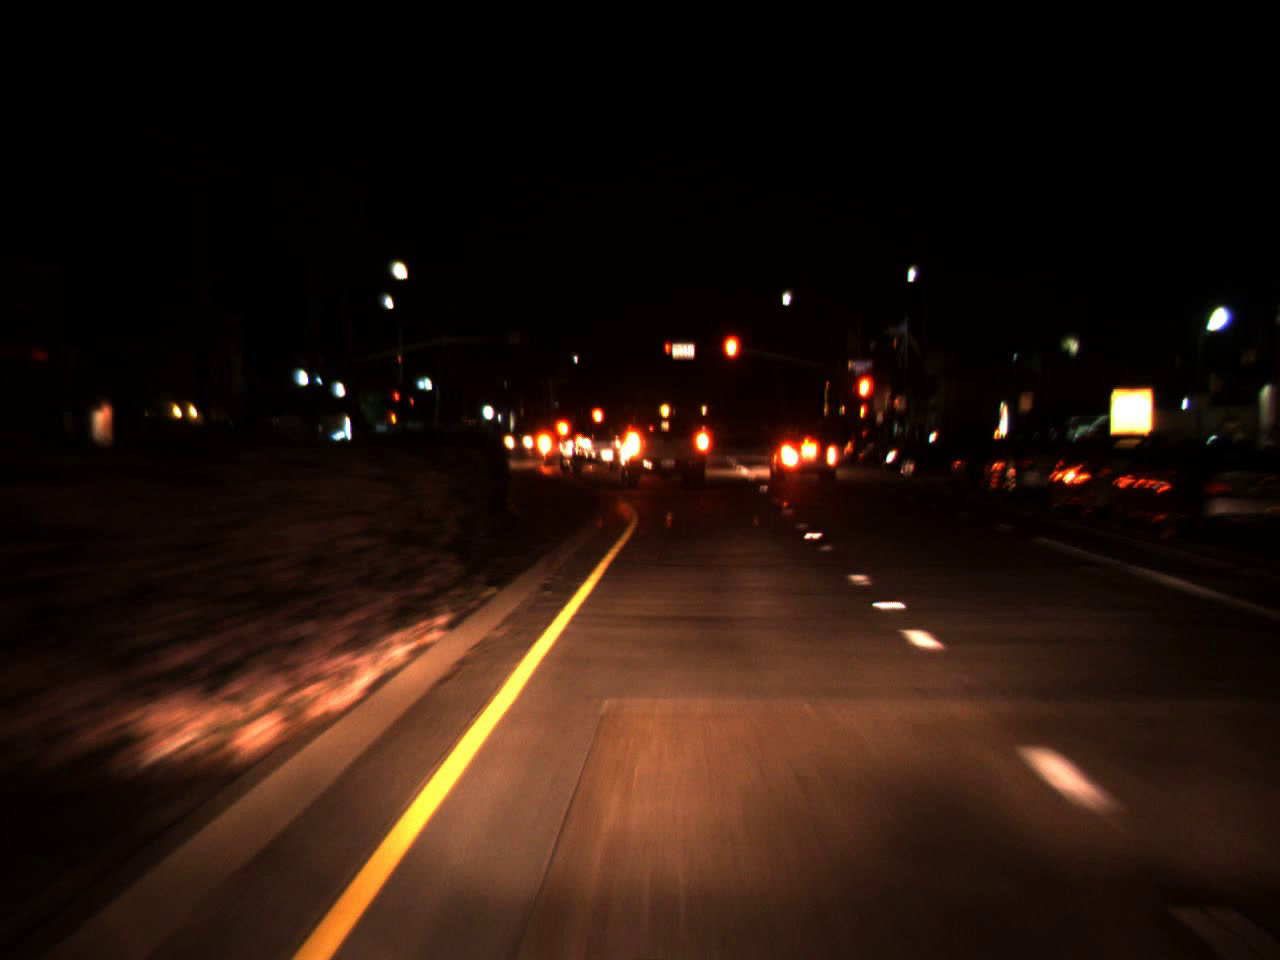stop: (720, 330, 742, 386), (854, 371, 876, 427), (392, 388, 404, 409), (664, 343, 671, 364)
